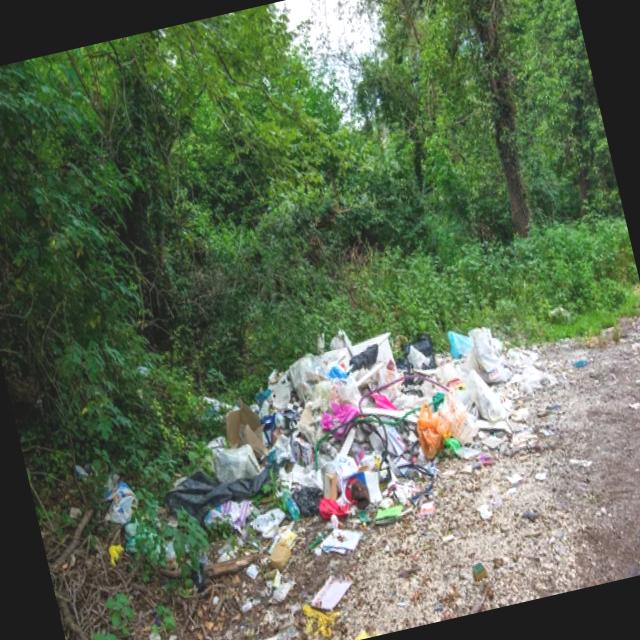garbage: (138, 271, 560, 604)
